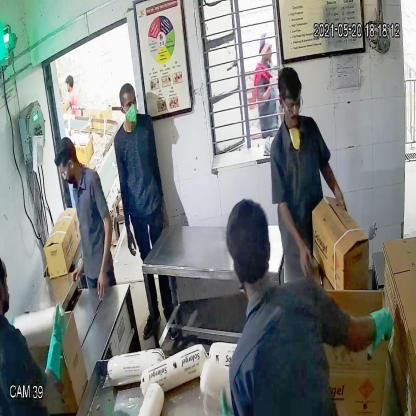goggles: (276, 94, 306, 113), (58, 161, 74, 180)
no_goggles: (118, 98, 139, 112)
